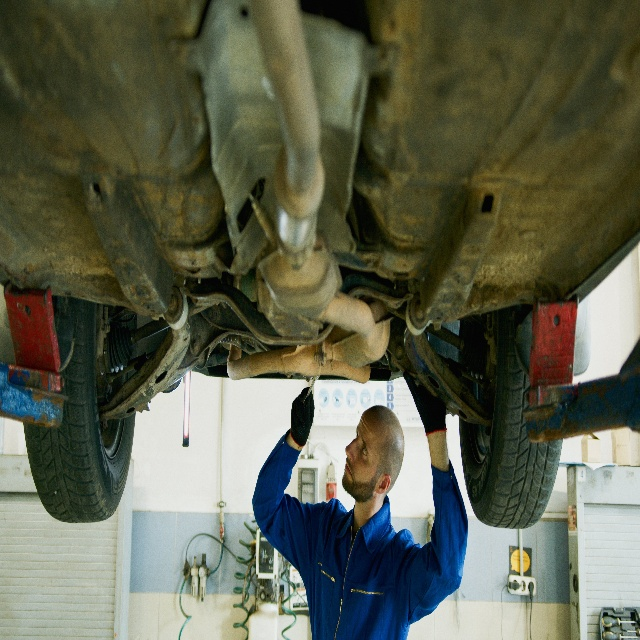Guantes: (402, 369, 447, 436), (290, 386, 314, 447)
